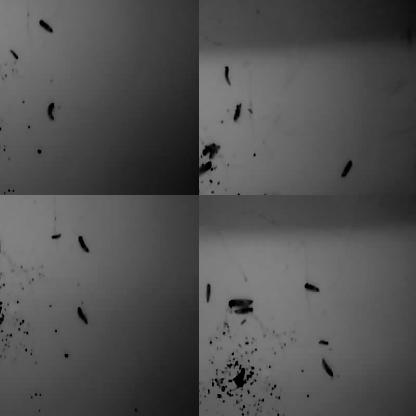PtecticusTenebrifer: (202, 141, 221, 158), (321, 355, 334, 379), (341, 158, 355, 179), (76, 306, 90, 326), (78, 235, 90, 256), (228, 297, 253, 307), (38, 19, 53, 35), (46, 100, 56, 123), (304, 281, 319, 294), (233, 103, 243, 122), (199, 162, 212, 176), (0, 29, 10, 46), (0, 301, 7, 325), (0, 106, 8, 126), (234, 308, 254, 315), (199, 381, 208, 396), (205, 283, 212, 302), (0, 126, 9, 140), (0, 250, 4, 281), (224, 67, 231, 84), (0, 66, 5, 88), (199, 373, 205, 390), (199, 358, 203, 383), (318, 338, 330, 346), (49, 233, 62, 240), (0, 237, 6, 252), (242, 0, 259, 5), (0, 89, 8, 99), (0, 139, 6, 151), (0, 282, 3, 306), (326, 0, 343, 4), (199, 266, 203, 283), (290, 0, 301, 6), (108, 0, 122, 4), (0, 0, 5, 9), (199, 0, 208, 5), (199, 0, 206, 6), (0, 0, 8, 5), (0, 195, 8, 200), (0, 195, 4, 204), (199, 195, 208, 199)
